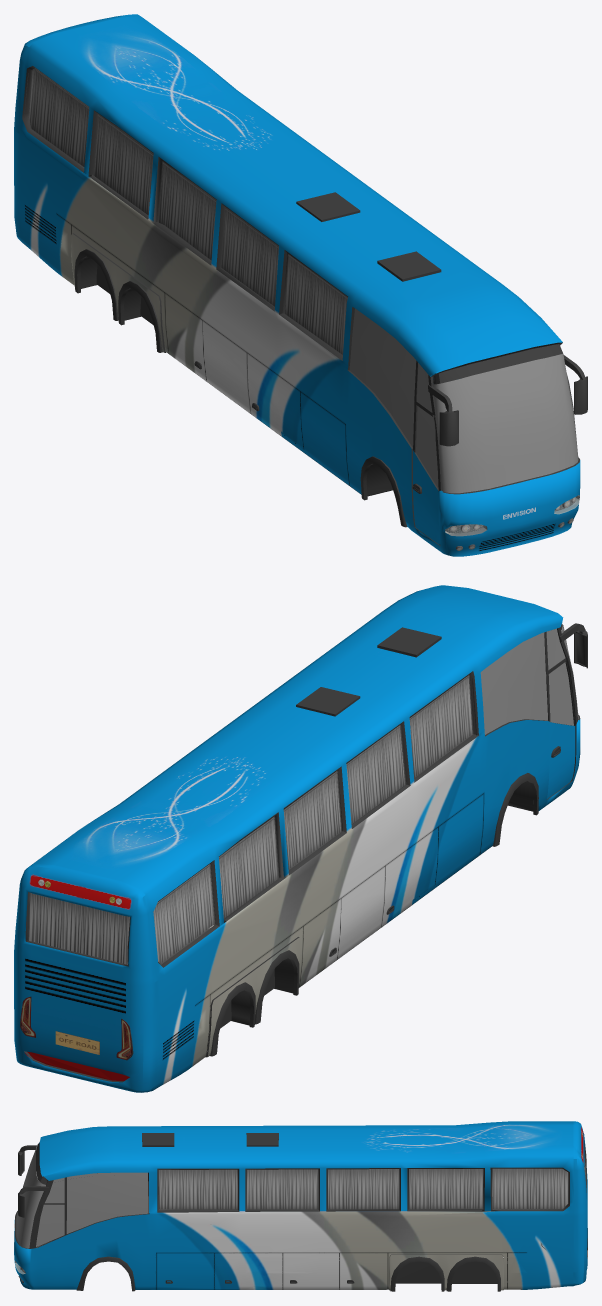
The model's file is BUS_NO_2.FBX.
3 views of the same model, one above another, from view 1: azimuth 30°, elevation 25°; view 2: azimuth 150°, elevation 25°; view 3: azimuth 270°, elevation 25° (orthographic). The views are drawn at different scales.
Visible parts, largest first — view 1: BUS_NO_2, Front Door; view 2: BUS_NO_2, Front Door; view 3: BUS_NO_2.
Part boxes in pixels (left/top/right/bottom): BUS_NO_2: left=14, top=14, right=587, bottom=556; Front Door: left=412, top=402, right=440, bottom=544; BUS_NO_2: left=14, top=585, right=587, bottom=1092; Front Door: left=546, top=659, right=575, bottom=798; BUS_NO_2: left=14, top=1121, right=587, bottom=1291.
Bounding box in the file's own units: 76.91 × 103 × 401.
8 materials, 6 textured.
